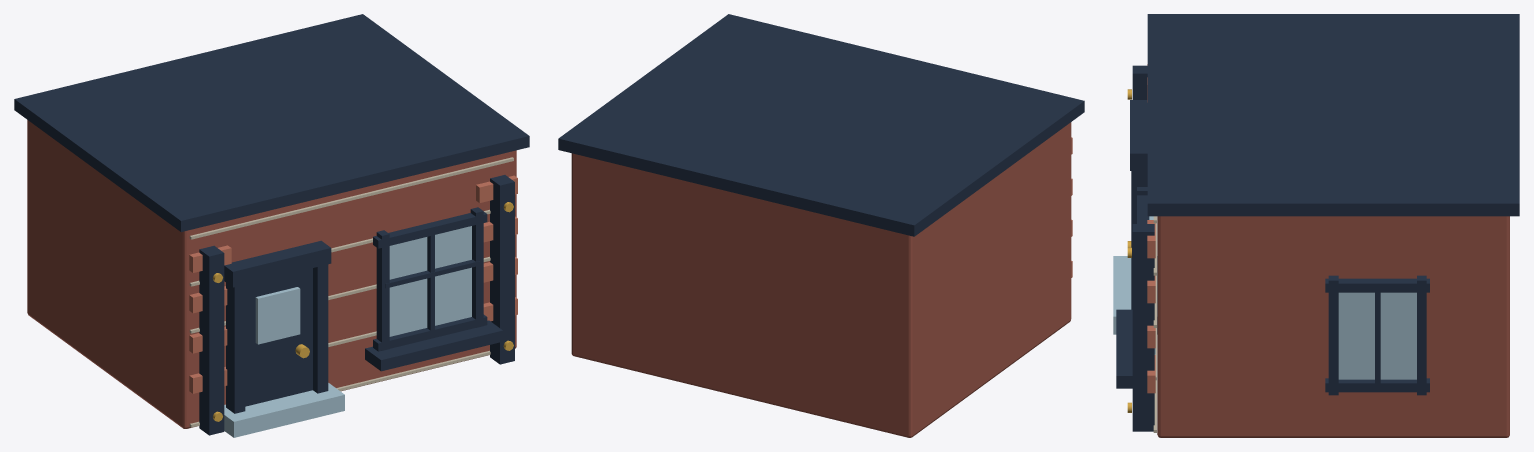
The model's file is floor_works_0.glb.
The picture shows the model from 3 angles, left to right: view 1: azimuth 30°, elevation 25°; view 2: azimuth 150°, elevation 25°; view 3: azimuth 270°, elevation 25°; orthographic projection. The views are drawn at different scales.
Parts seen in each view (by area): view 1: floor_works_0 ink, floor_works_0 brick, floor_works_0 glass, floor_works_0 mist, floor_works_0 mortar, floor_works_0 clay, floor_works_0 ochre; view 2: floor_works_0 brick, floor_works_0 ink; view 3: floor_works_0 ink, floor_works_0 brick, floor_works_0 glass, floor_works_0 mist, floor_works_0 clay, floor_works_0 mortar.
Boxes of the visible parts, left/top/right/bottom form: floor_works_0 ink: left=14, top=14, right=529, bottom=435; floor_works_0 brick: left=27, top=120, right=516, bottom=428; floor_works_0 glass: left=255, top=226, right=471, bottom=344; floor_works_0 mist: left=224, top=383, right=344, bottom=437; floor_works_0 mortar: left=189, top=157, right=513, bottom=427; floor_works_0 clay: left=189, top=175, right=517, bottom=393; floor_works_0 ochre: left=212, top=202, right=513, bottom=421; floor_works_0 brick: left=571, top=122, right=1071, bottom=437; floor_works_0 ink: left=558, top=14, right=1084, bottom=236; floor_works_0 ink: left=1116, top=14, right=1519, bottom=431; floor_works_0 brick: left=1157, top=216, right=1509, bottom=437; floor_works_0 glass: left=1149, top=216, right=1416, bottom=379; floor_works_0 mist: left=1113, top=256, right=1157, bottom=334; floor_works_0 clay: left=1147, top=64, right=1155, bottom=393; floor_works_0 mortar: left=1153, top=216, right=1156, bottom=432.
Size of the model in its own units: 0.8345 by 0.48 by 0.7375.
